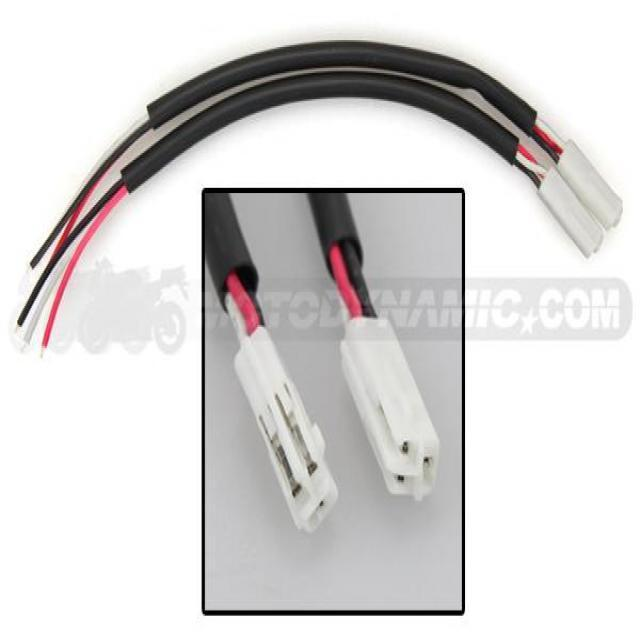connector: (186, 286, 358, 536), (322, 306, 457, 510), (526, 114, 631, 232), (529, 167, 611, 259)
